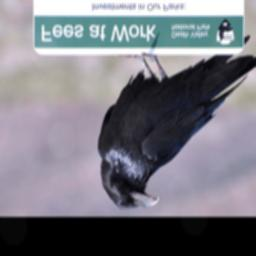Crow: (97, 33, 256, 210)
